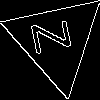Z: (31, 15, 81, 55)
